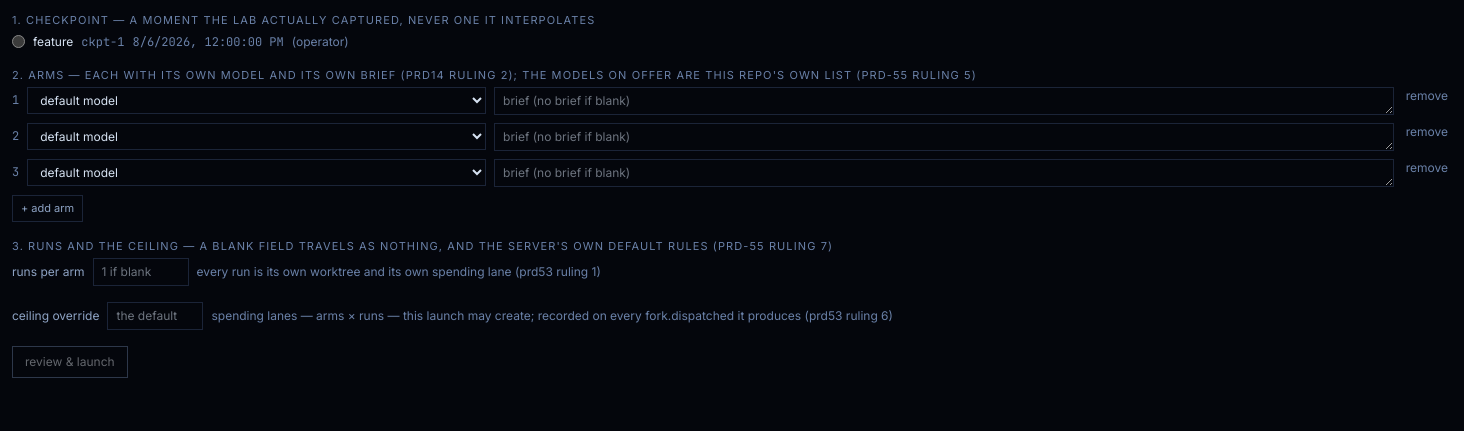
Test: LaunchPanel › starts with three arms, each with its own model select and its own brief, and supports add/remove
Expected: the text "feature ckpt-1 8/6/2026, 12:00:00 PM (operator)" is shown, [12,34,349,50]
Select "opus" in the dropdown named "arm 1 model" at (257,100), box [27,87,486,114]
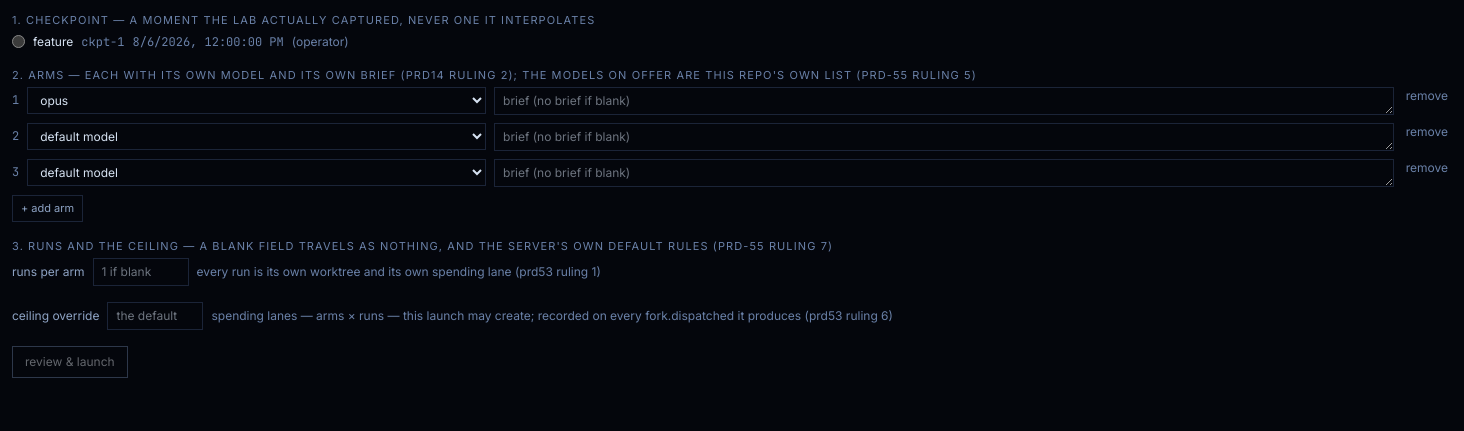
Select "sonnet" in the dropdown named "arm 2 model" at (257,136), box [27,123,486,150]
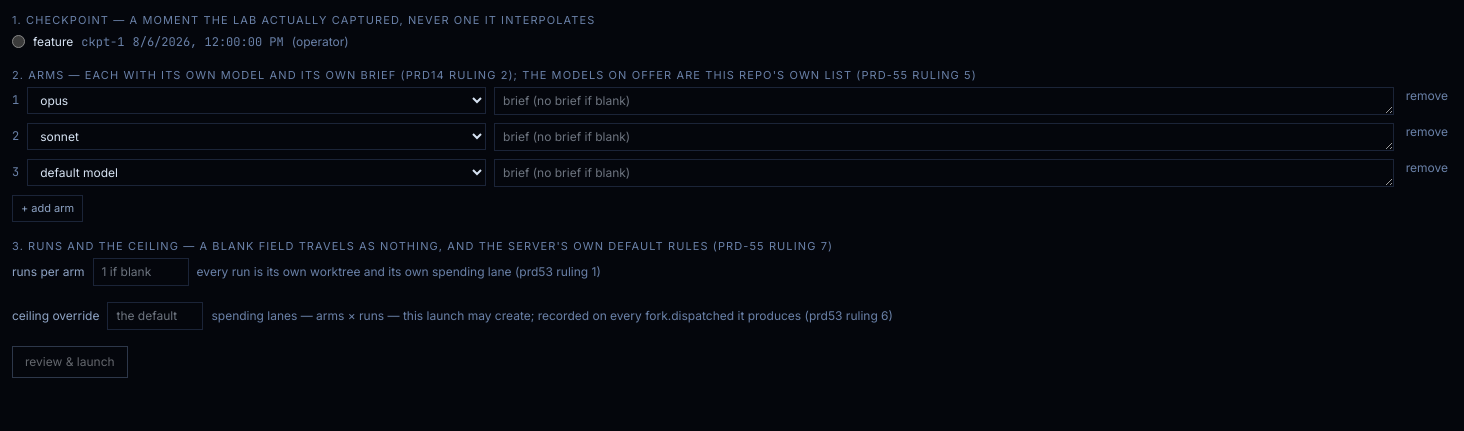
Expected: the dropdown named "arm 3 model" shows "default model", [27,159,486,186]
Click the button with test id "launch-add-arm" at (48,208), box [12,195,83,222]
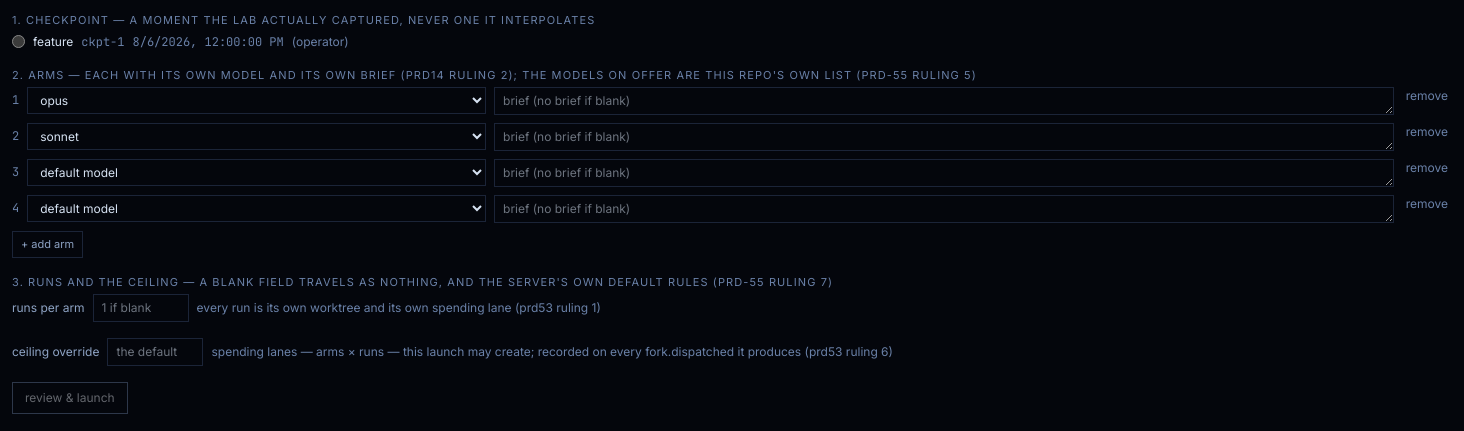
Now the number of dropdowns named "arm 1 model" is 4, box [27,87,486,114]; [27,123,486,150]; [27,159,486,186]; [27,195,486,222]
Click the 1st button "remove" at (1427,96), box [1402,87,1452,105]
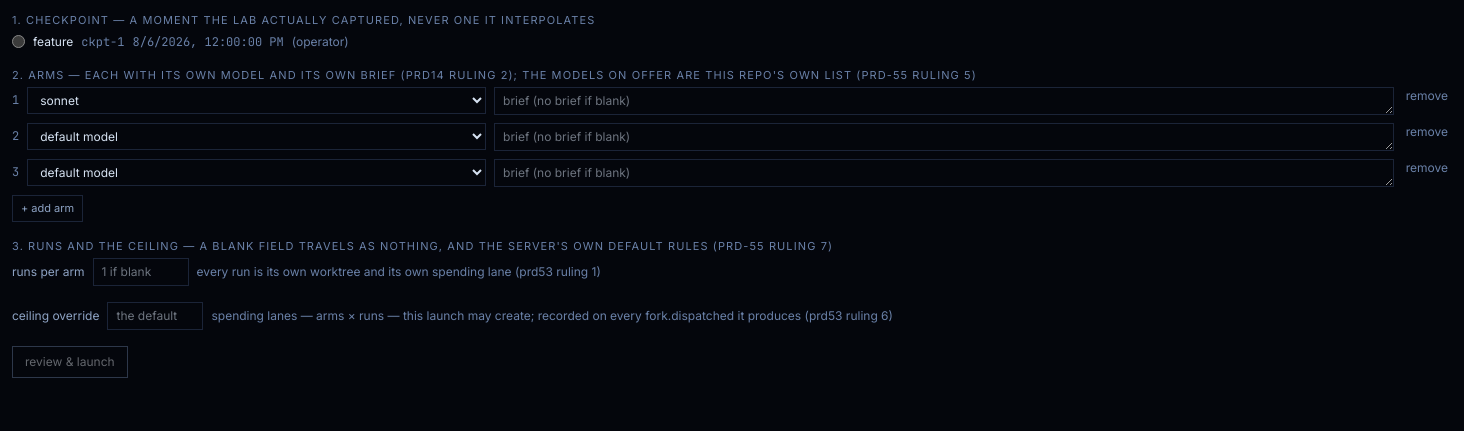
Now the number of dropdowns named "arm 1 model" is 3, box [27,87,486,114]; [27,123,486,150]; [27,159,486,186]
